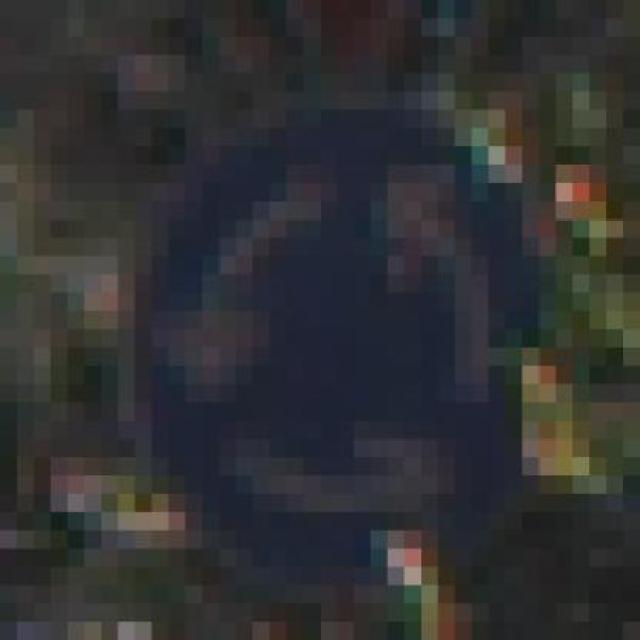Round-About: (67, 55, 590, 622)
